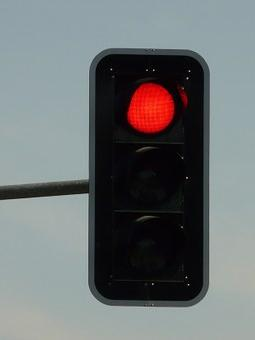trafic: (96, 51, 203, 302)
